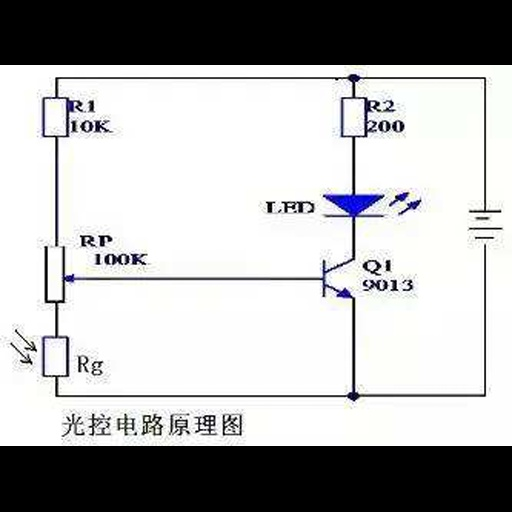battery: (464, 204, 506, 243)
firstled: (317, 184, 426, 225)
firstresistance: (337, 91, 369, 148), (36, 93, 70, 145), (41, 333, 71, 382)
npn: (314, 251, 360, 307)
